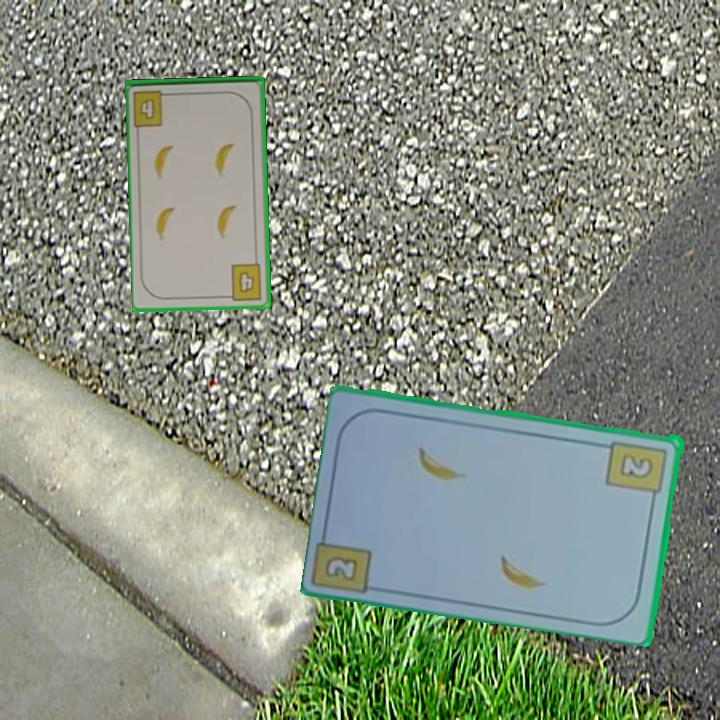2b: (603, 436, 670, 505), (321, 552, 362, 584)
4b: (130, 86, 174, 129), (222, 260, 265, 303)
